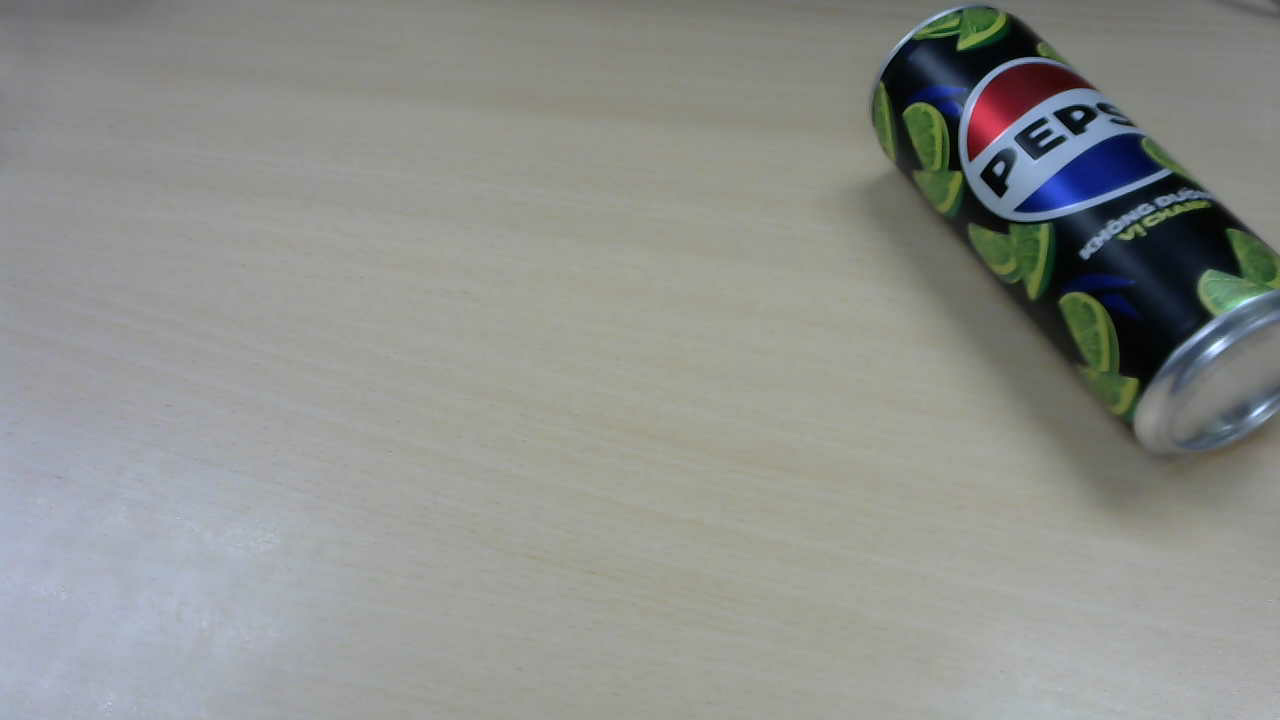Pepsi: (872, 7, 1280, 460)
